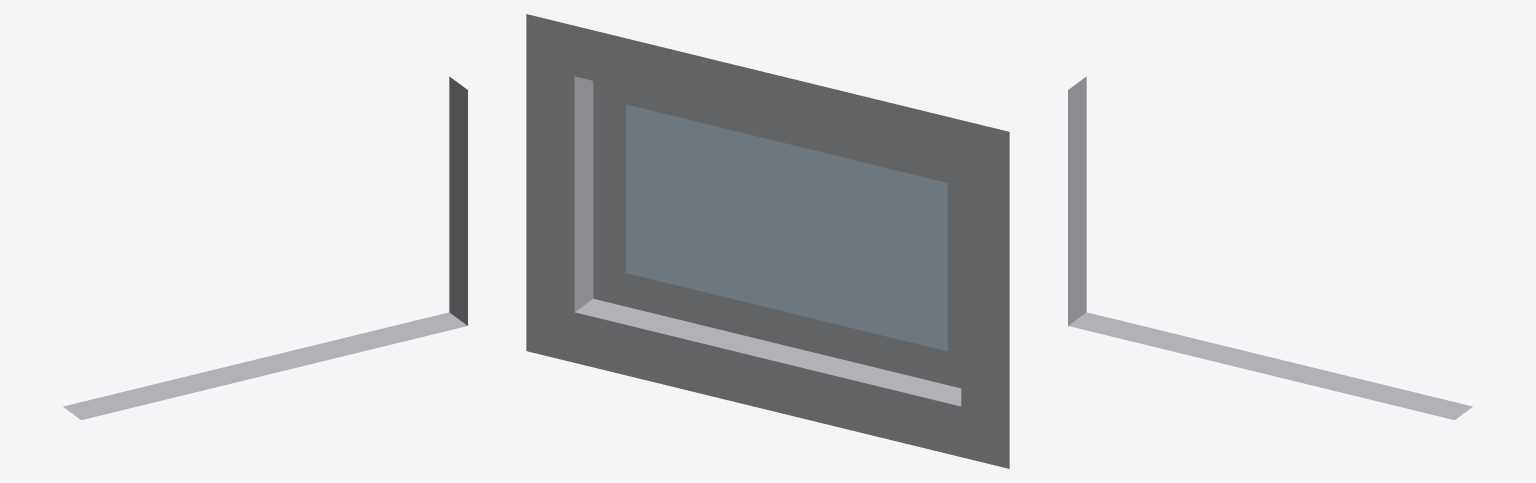
The model's file is Window.gltf.
3 renders of one model, left to right at view 1: azimuth 30°, elevation 25°; view 2: azimuth 150°, elevation 25°; view 3: azimuth 330°, elevation 25°, orthographic.
Parts seen in each view (by area): view 1: house_type02.001; view 2: house_type02.001; view 3: house_type02.001.
Part boxes in pixels (<box>): house_type02.001: <box>63,76,467,419</box>; house_type02.001: <box>526,14,1009,468</box>; house_type02.001: <box>1068,76,1472,419</box>.
Size of the model in its own units: 0.3 by 0.2 by 0.02.
